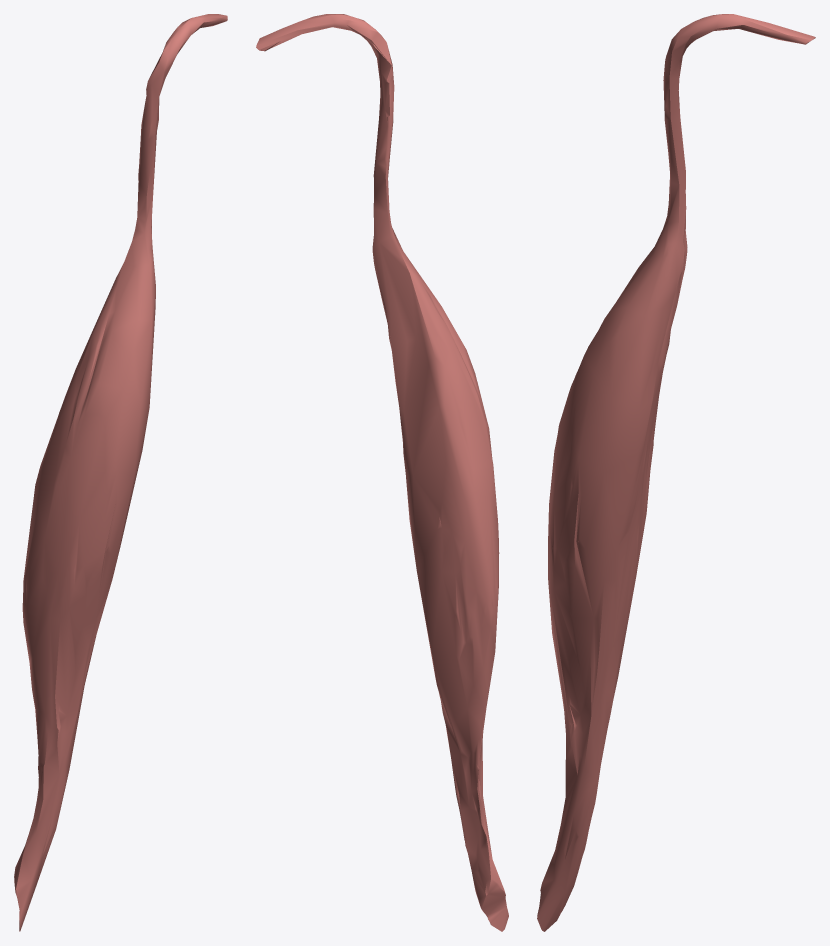
The model's file is fma37686_fj1478.glb.
The picture shows the model from 3 angles, left to right: view 1: azimuth 30°, elevation 25°; view 2: azimuth 150°, elevation 25°; view 3: azimuth 330°, elevation 25°; orthographic projection. The views are drawn at different scales.
Parts seen in each view (by area): view 1: FMA37686_FJ1478; view 2: FMA37686_FJ1478; view 3: FMA37686_FJ1478.
Boxes of the visible parts, <box> form: FMA37686_FJ1478: <box>14,14,227,931</box>; FMA37686_FJ1478: <box>256,14,508,931</box>; FMA37686_FJ1478: <box>537,14,815,931</box>.
Size of the model in its own units: 0.0946 by 0.3453 by 0.0415.
